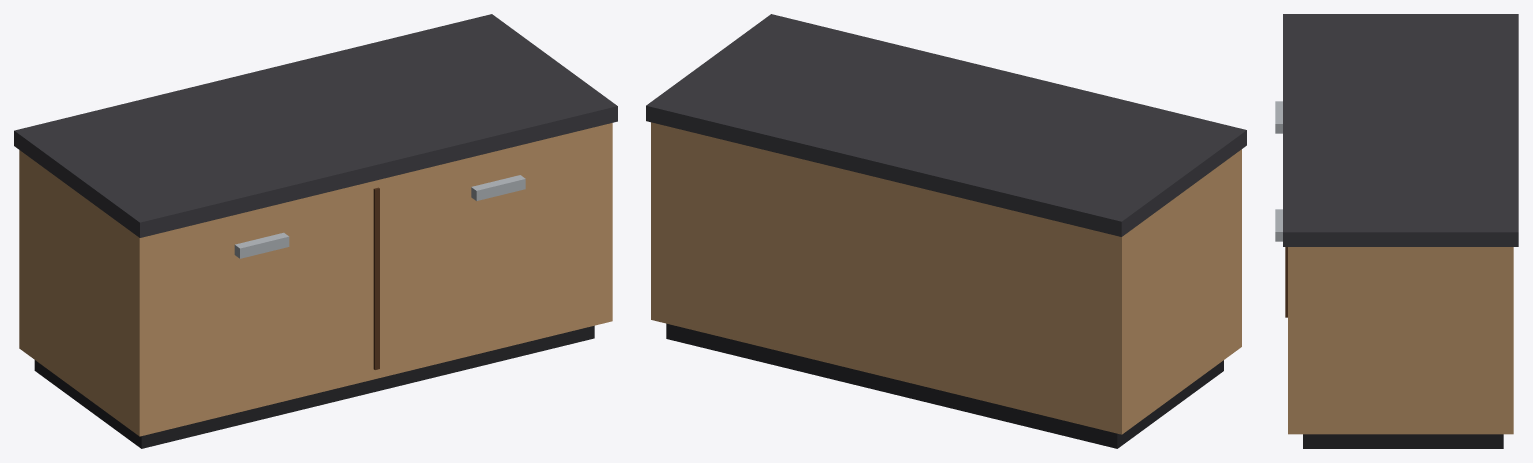
File: counter.glb
The picture shows the model from 3 angles, left to right: view 1: azimuth 30°, elevation 25°; view 2: azimuth 150°, elevation 25°; view 3: azimuth 270°, elevation 25°; orthographic projection. The views are drawn at different scales.
Parts seen in each view (by area): view 1: counter; view 2: counter; view 3: counter.
Boxes of the visible parts, box(x1,y1,x2,y2) form: counter: box(14, 14, 617, 448); counter: box(646, 14, 1246, 448); counter: box(1275, 14, 1518, 448).
Size of the model in its own units: 1.94 by 0.92 by 0.9129.
